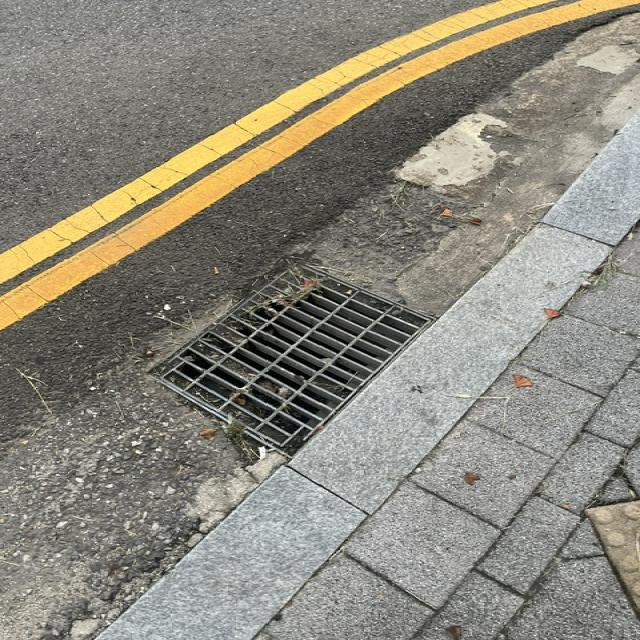drain_area: (217, 290, 416, 425), (177, 349, 287, 415)
drain_full: (148, 263, 434, 459)
